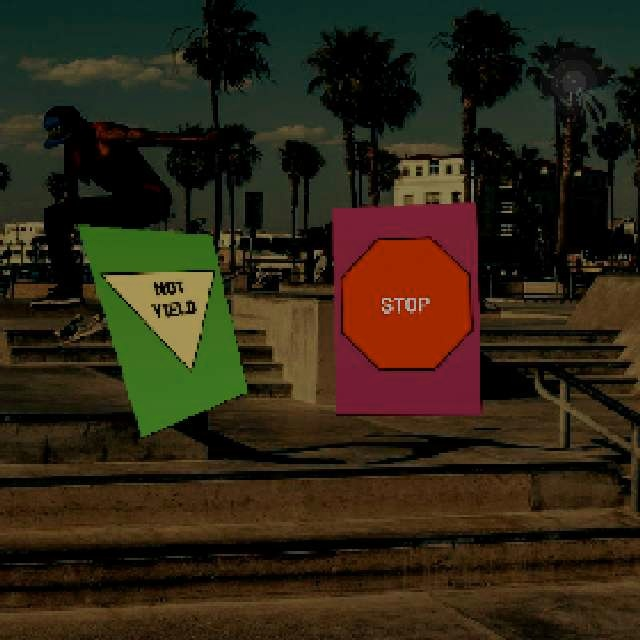NOT_YIELD: (98, 259, 236, 391)
STOP: (338, 234, 472, 369)
